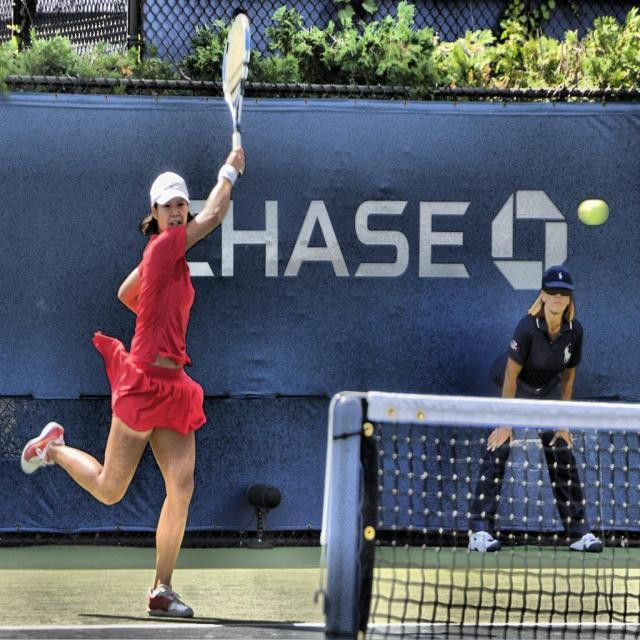tennis-ball: (577, 195, 609, 230)
